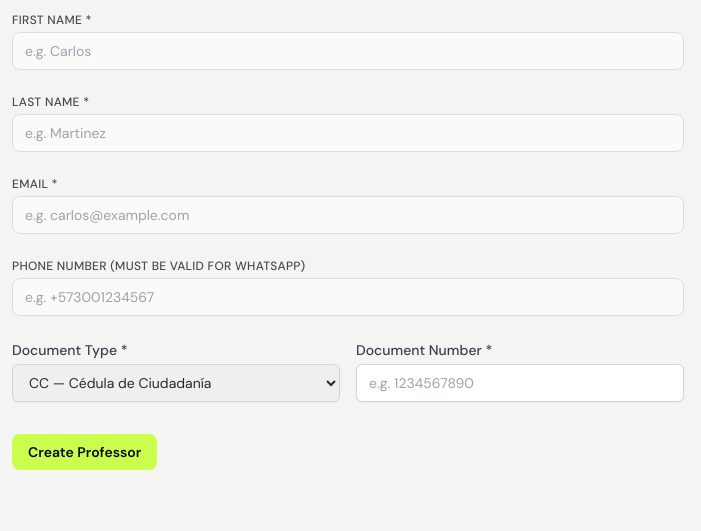
Test case: ProfessorForm (create mode) › validates firstName is required on submit
Type "Martinez" into the field labelled "Last Name *" at (348, 133), box [12,114,684,152]
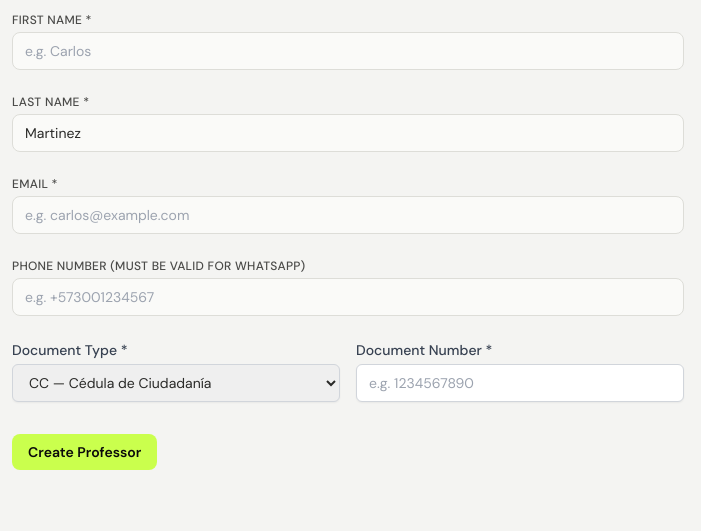
Type "carlos@example.com" into the field labelled "Email *" at (348, 215), box [12,196,684,234]
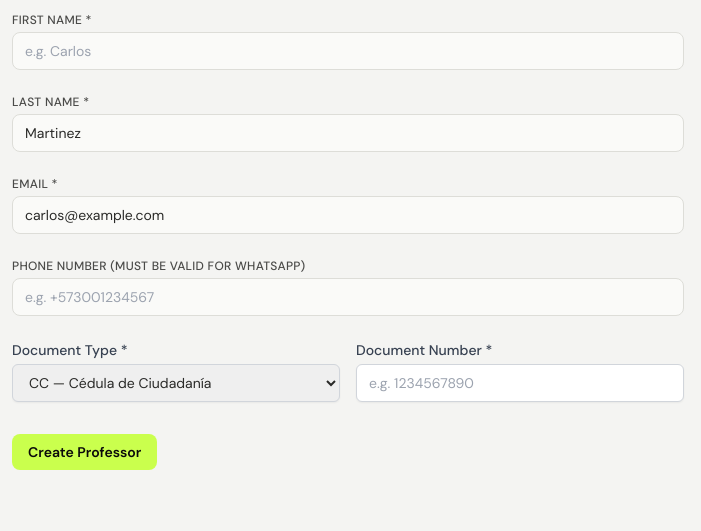
Click the button "Create Professor" at (85, 452), box [12,434,157,470]
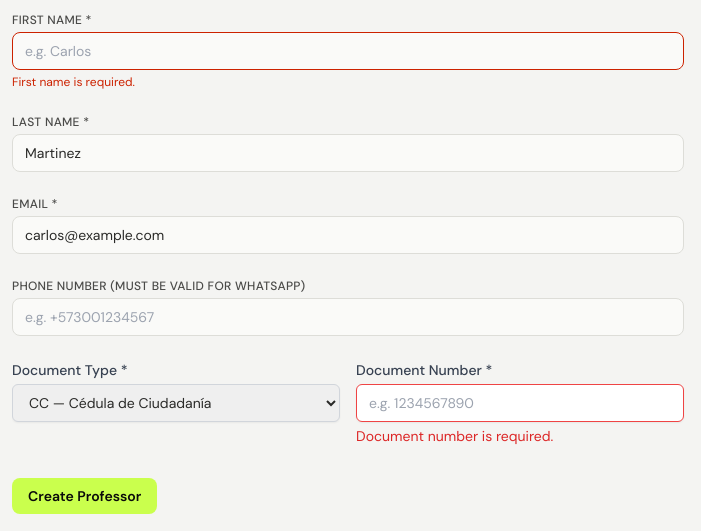
Expected: the text "First name is required." is shown, [12,74,135,90]
